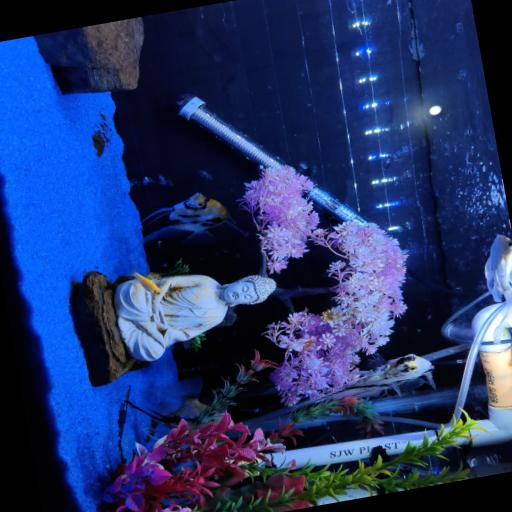Fish: (297, 354, 434, 407), (142, 193, 245, 245), (126, 376, 222, 425), (484, 235, 511, 341), (167, 376, 207, 422), (132, 270, 160, 295)
